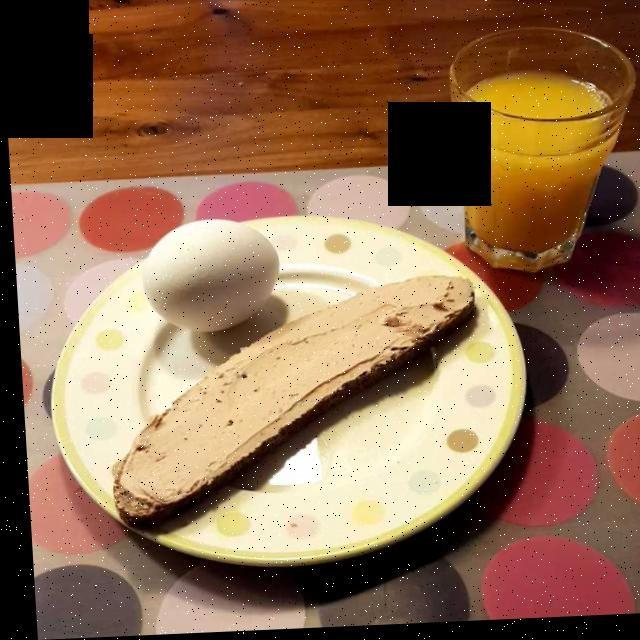bread: (113, 279, 473, 515)
egg: (140, 223, 274, 333)
juice: (461, 75, 614, 261)
